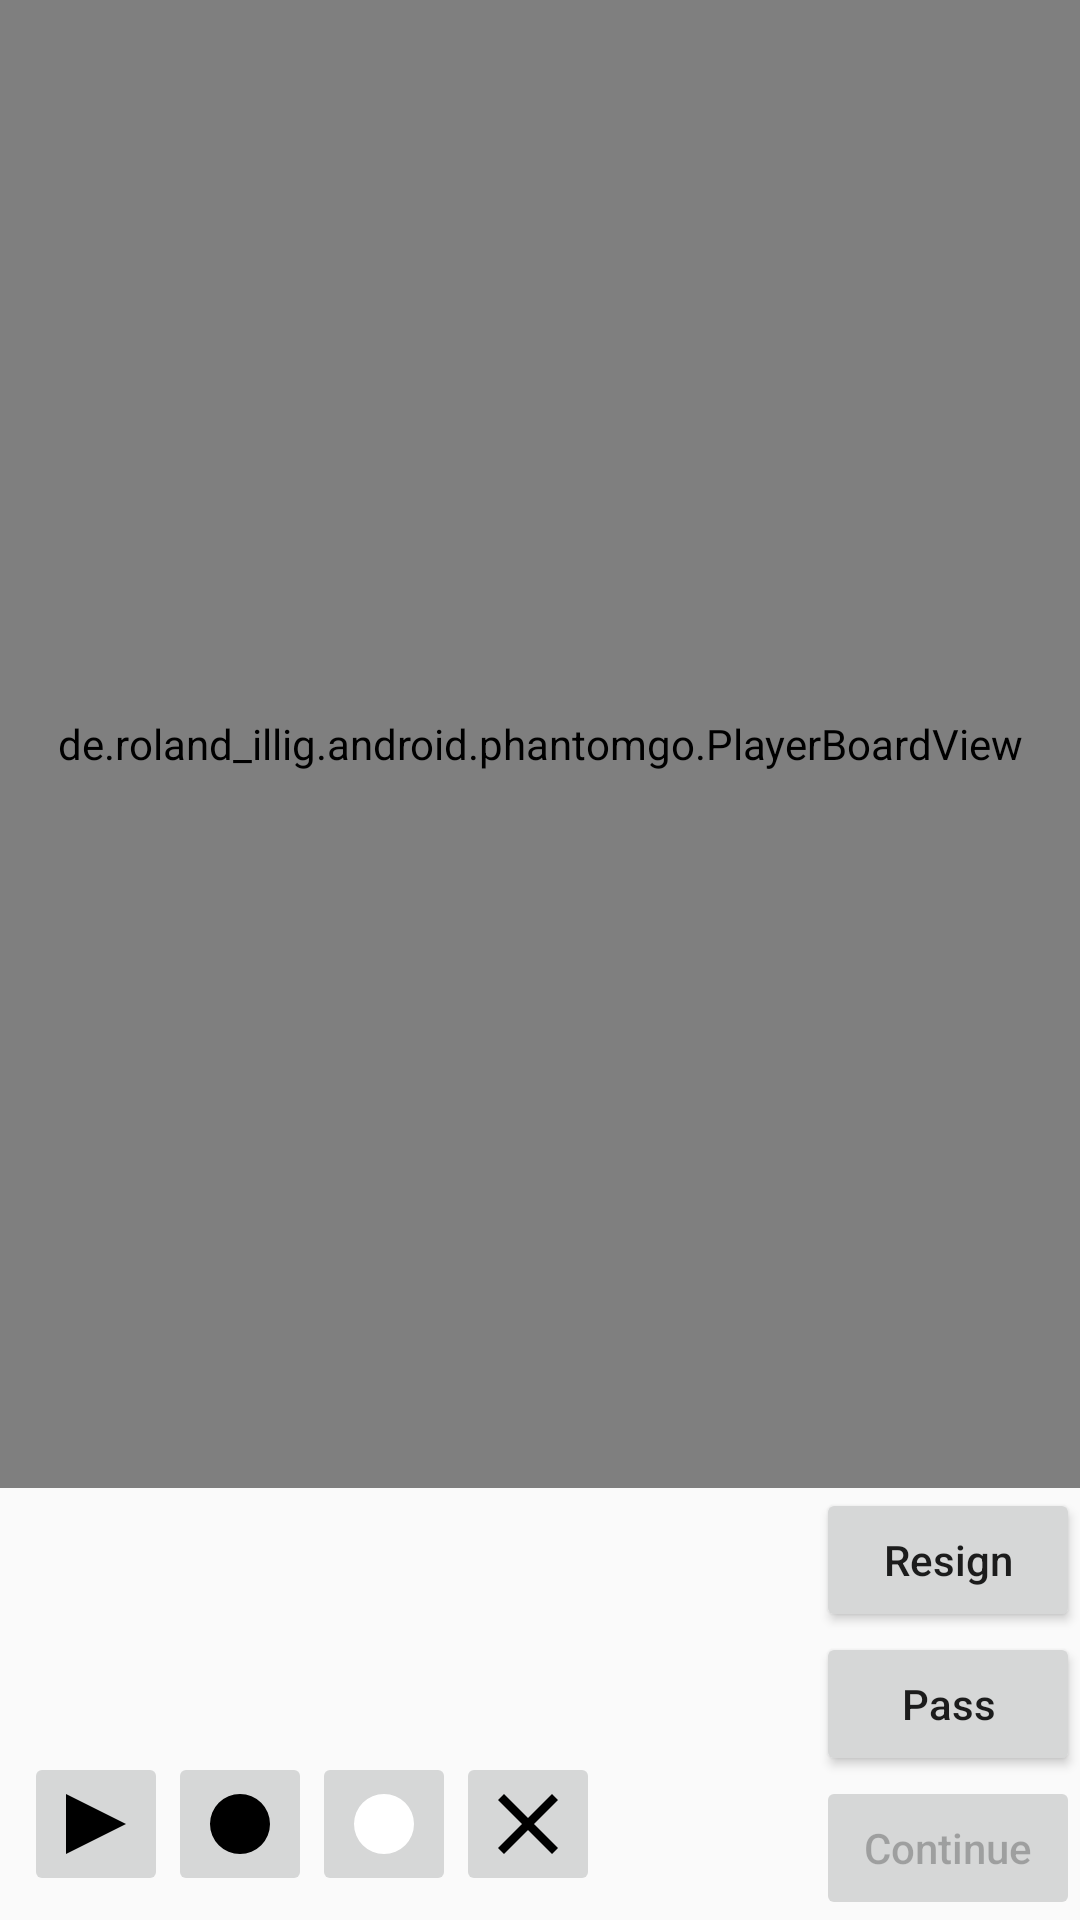

Screen size 1080px×1920px. Icon name, then its box in pixels as (x1, y1, x2, y2):
Play a move: (36, 1770, 156, 1878)
Put black stones on the board: (180, 1770, 300, 1878)
Put white stones on the board: (324, 1770, 444, 1878)
Remove stones from the board: (468, 1770, 588, 1878)
